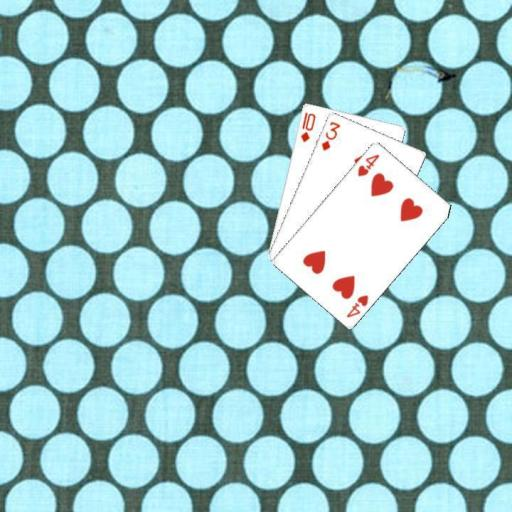card-corner: (318, 118, 342, 152), (354, 151, 381, 178), (343, 292, 370, 318), (298, 108, 316, 144)
